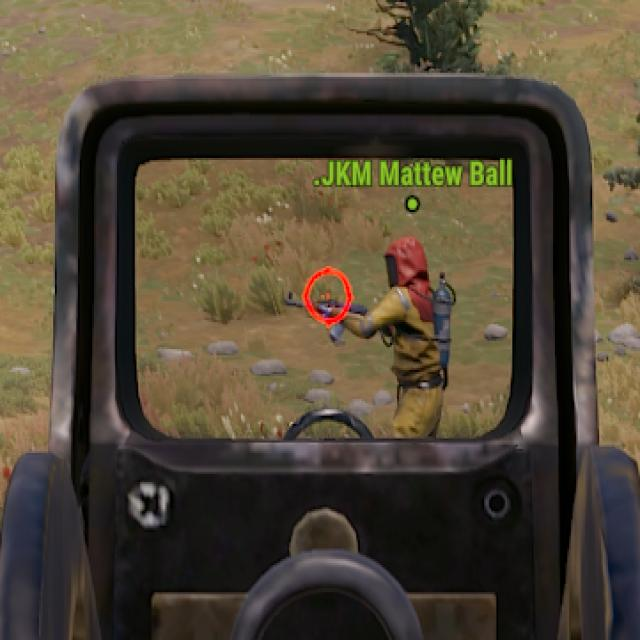Player: (364, 235, 456, 435)
